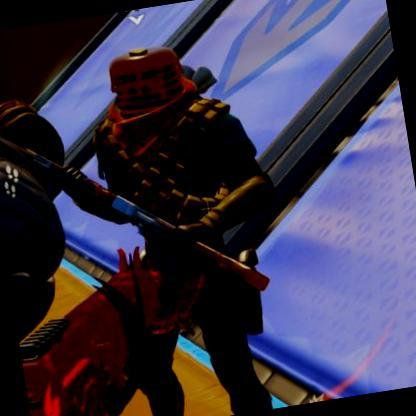person: (90, 64, 265, 385)
